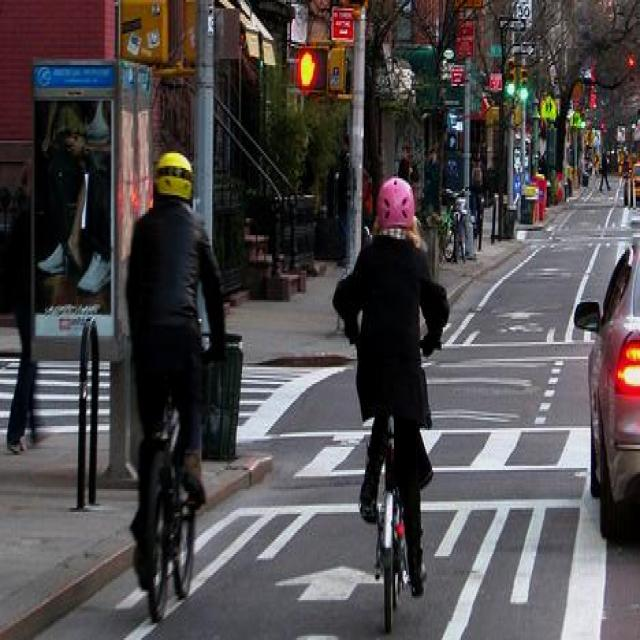bikerider: (108, 139, 235, 619), (329, 162, 456, 630)
